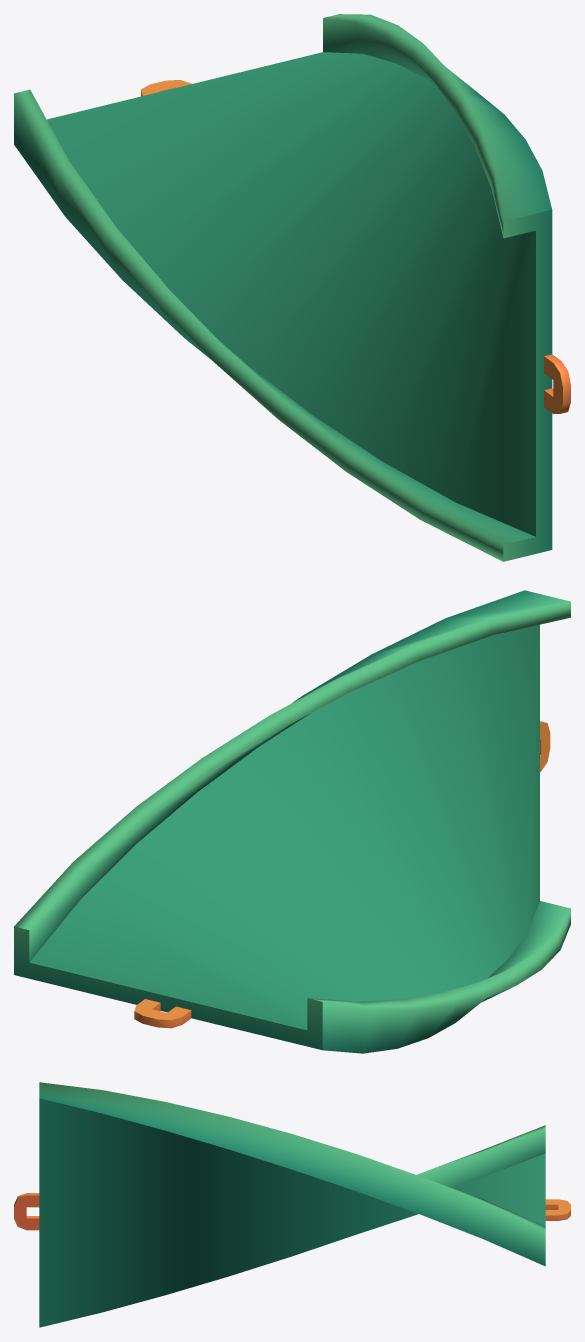
Rendered from track-wide-straight-skew-right-side.fbx.
3 views of the same model, one above another, from view 1: azimuth 30°, elevation 25°; view 2: azimuth 150°, elevation 25°; view 3: azimuth 270°, elevation 25° (orthographic). The views are drawn at different scales.
Visible parts, largest first — view 1: track-wide-straight-skew-right-side; view 2: track-wide-straight-skew-right-side; view 3: track-wide-straight-skew-right-side.
Part boxes in pixels (x1=…): track-wide-straight-skew-right-side: x1=14, y1=14, x2=570, y2=561; track-wide-straight-skew-right-side: x1=14, y1=590, x2=570, y2=1053; track-wide-straight-skew-right-side: x1=14, y1=1082, x2=570, y2=1327.
Bounding box in the file's own units: 204 × 204 × 440.
